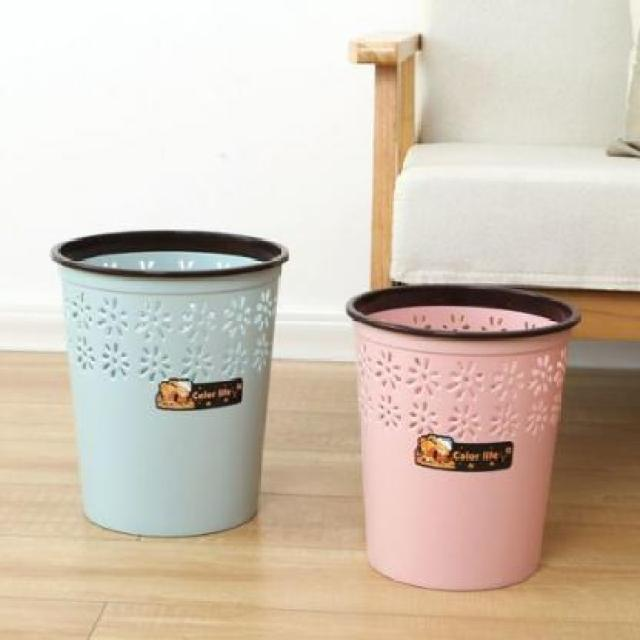dustbin: (45, 223, 296, 546), (343, 280, 583, 597)
